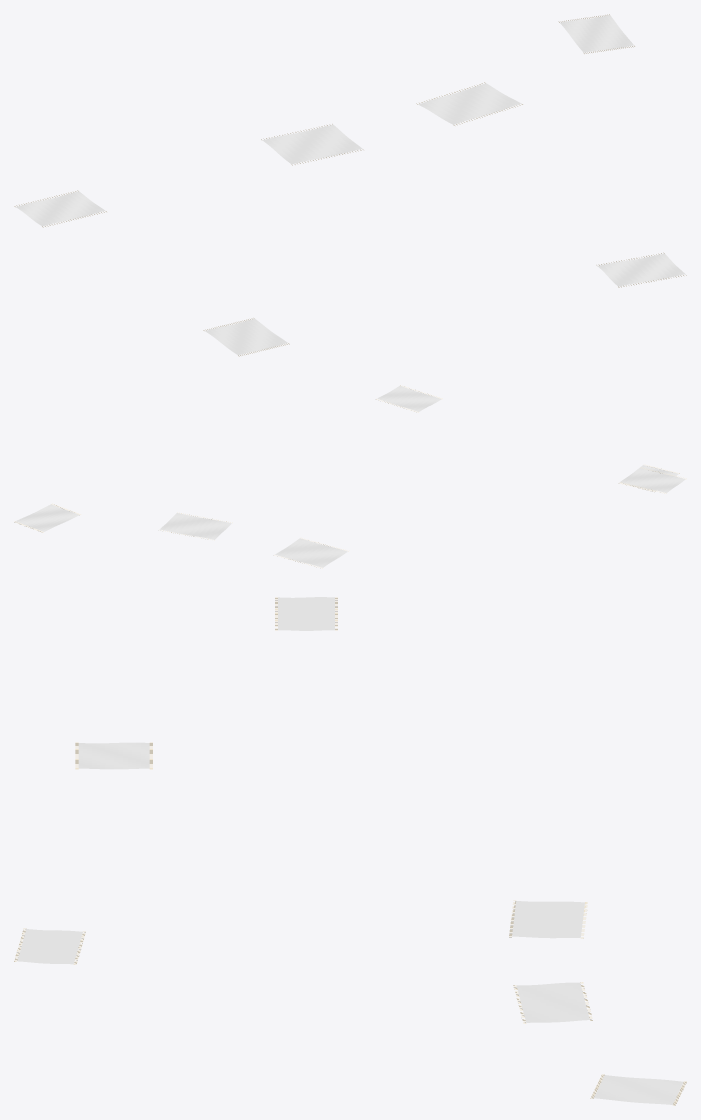
Rendered from SM_HandPatternedRugs.fbx.
3 views of the same model, one above another, from view 1: azimuth 30°, elevation 25°; view 2: azimuth 150°, elevation 25°; view 3: azimuth 270°, elevation 25° (orthographic). The views are drawn at different scales.
Parts seen in each view (by area): view 1: SM_HandPatternedRugs_Export; view 2: SM_HandPatternedRugs_Export; view 3: SM_HandPatternedRugs_Export.
Boxes of the visible parts, box(x1,y1,x2,y2) form: SM_HandPatternedRugs_Export: box(14, 14, 686, 356); SM_HandPatternedRugs_Export: box(14, 385, 686, 568); SM_HandPatternedRugs_Export: box(14, 597, 686, 1105).
Size of the model in its own units: 3921 by 2835 by 539.
